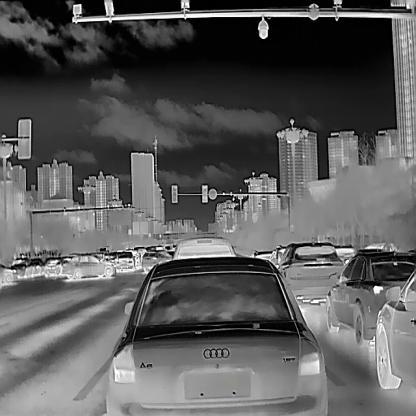car: (104, 256, 327, 415), (323, 247, 415, 346), (373, 271, 415, 389), (275, 241, 344, 294), (172, 236, 236, 259), (62, 252, 116, 278), (140, 249, 169, 272), (113, 250, 135, 272), (11, 256, 33, 275), (0, 264, 17, 284), (45, 256, 60, 276)
